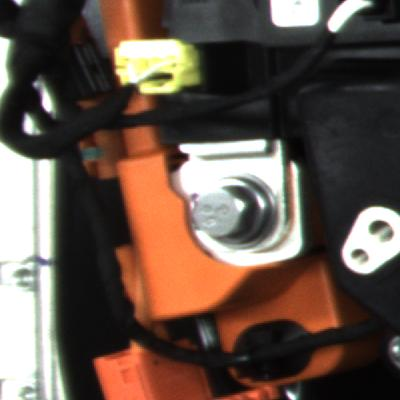nut_b: (187, 165, 285, 251)
